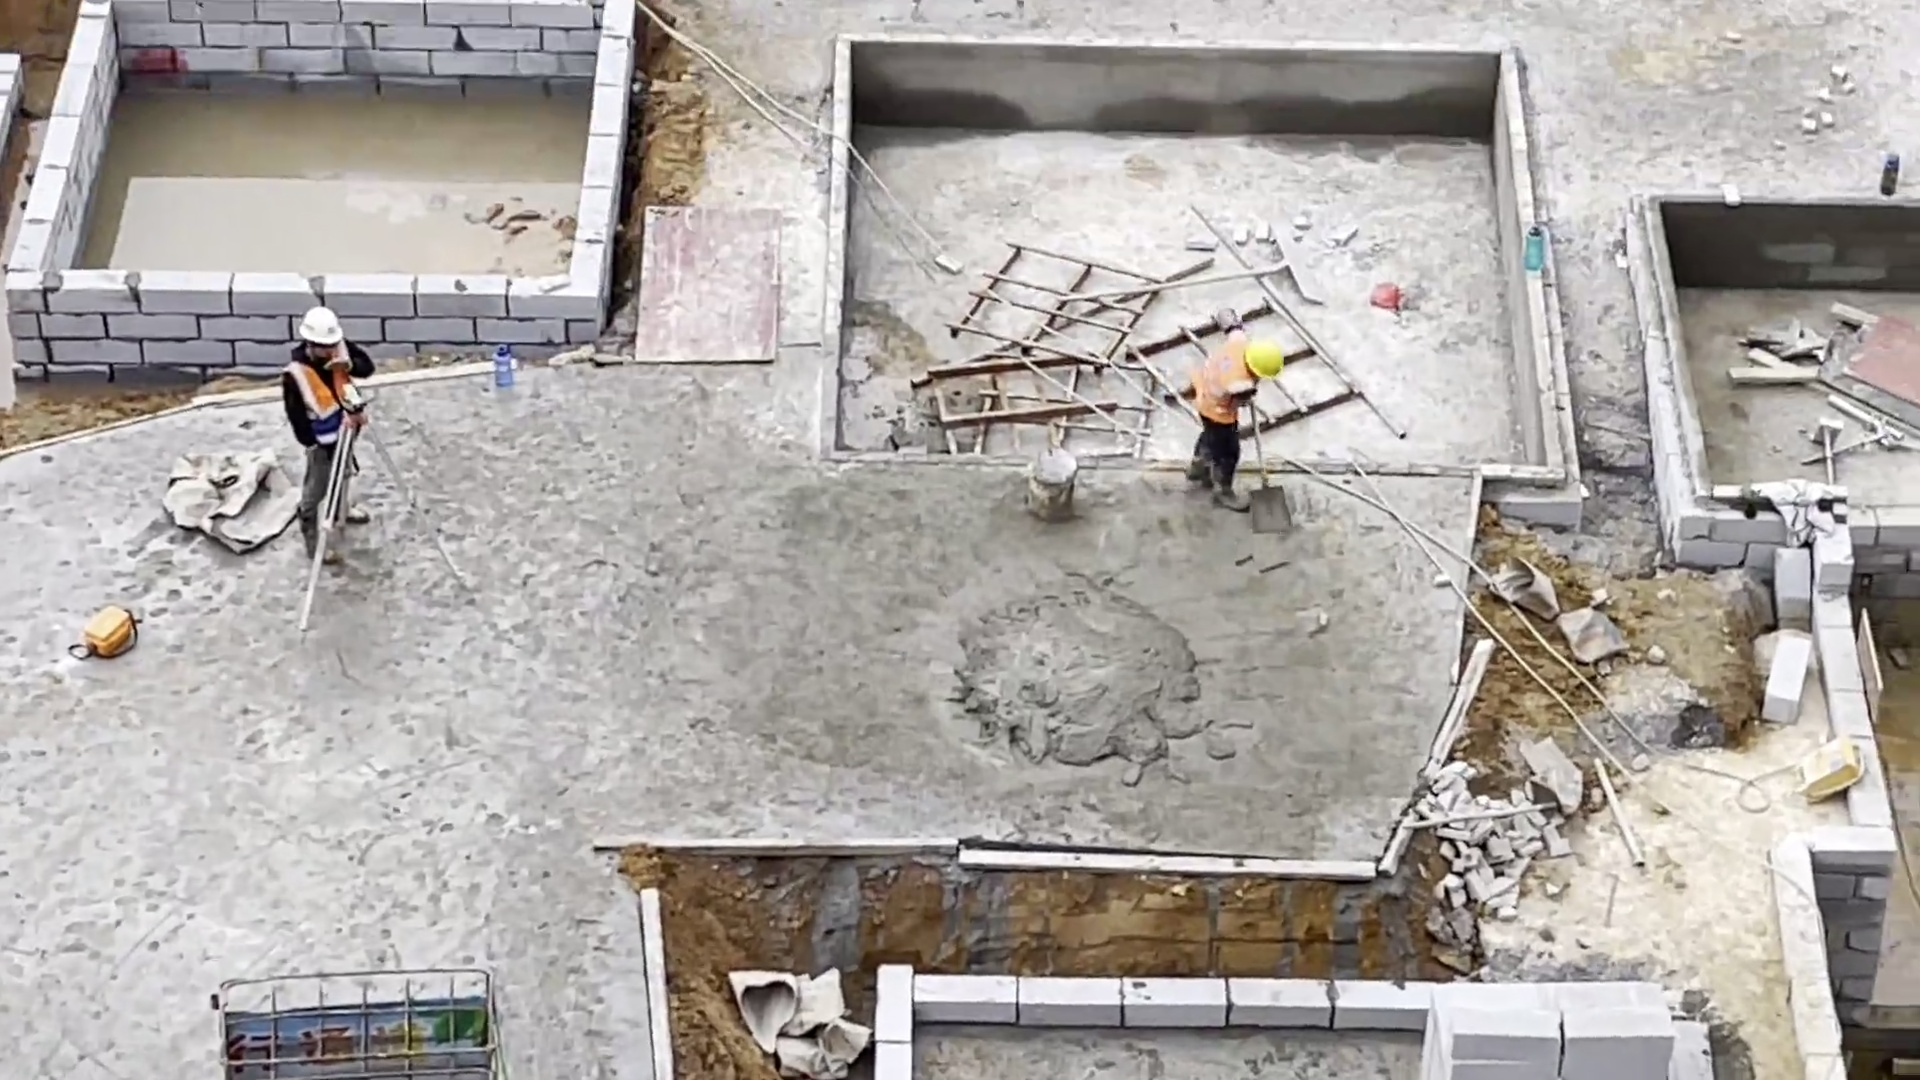brick: (1409, 983, 1683, 1080)
helmet: (295, 305, 343, 346), (1243, 337, 1286, 380)
person: (284, 305, 378, 565), (1184, 337, 1286, 519)
vest: (284, 344, 366, 447), (1191, 339, 1257, 424)
